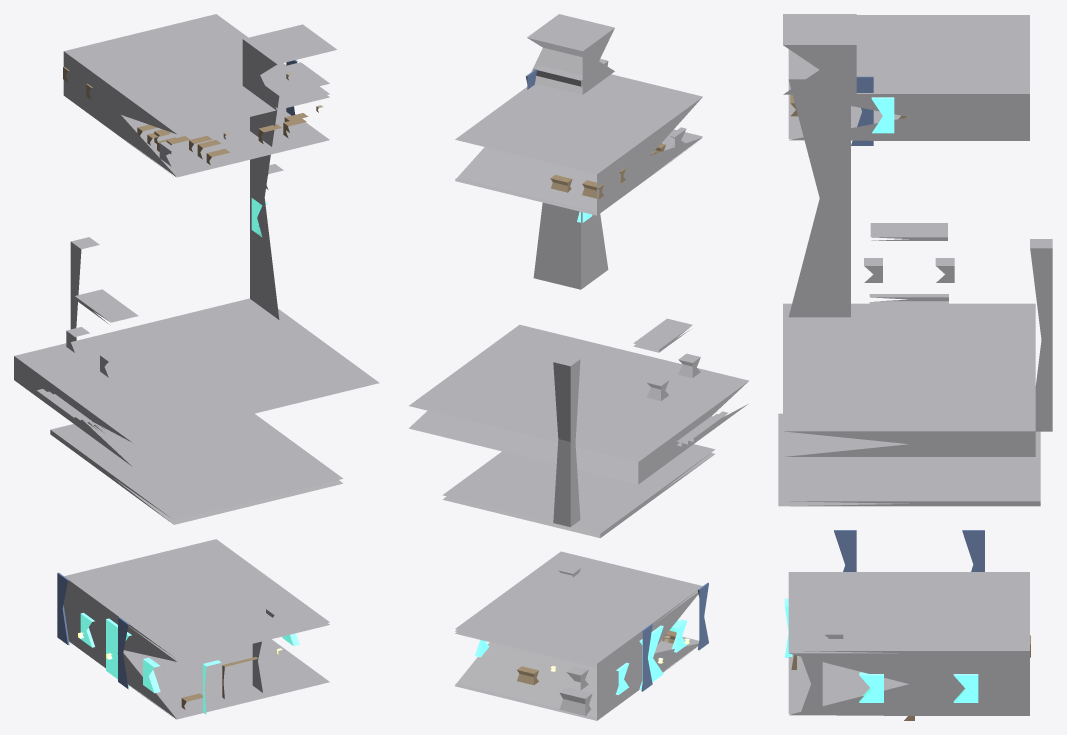
The model's file is guildhouse_3d_exploded.glb.
3 views of the same model, side by side, from view 1: azimuth 30°, elevation 25°; view 2: azimuth 150°, elevation 25°; view 3: azimuth 270°, elevation 25° (orthographic). The views are drawn at different scales.
Parts seen in each view (by area): view 1: floorplan; view 2: floorplan; view 3: floorplan.
Part boxes in pixels (x1,y1,x2,y2): floorplan: [14, 14, 379, 719]; floorplan: [409, 14, 748, 720]; floorplan: [778, 14, 1052, 720].
Bounding box in the file's own units: 17.2 × 39.67 × 14.55.
